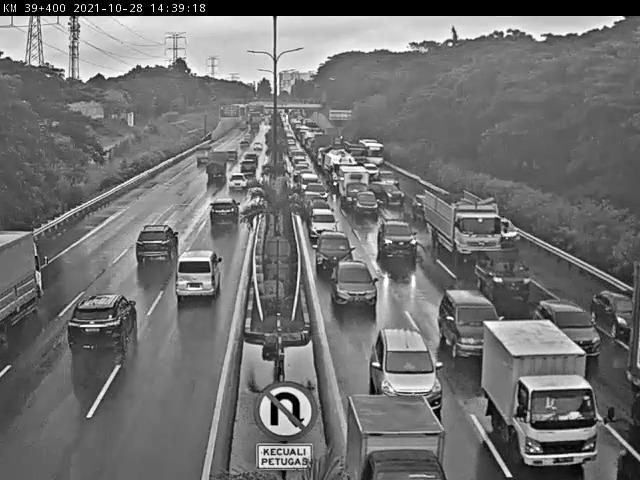car: (368, 324, 440, 407), (438, 288, 504, 359), (535, 297, 602, 356), (69, 294, 135, 348), (476, 247, 533, 300), (175, 251, 221, 300), (590, 290, 640, 335), (329, 256, 377, 301), (134, 224, 177, 264), (315, 230, 352, 272), (375, 217, 415, 255), (308, 207, 337, 241), (209, 197, 241, 225), (370, 181, 401, 202), (354, 191, 379, 214), (408, 191, 431, 214), (303, 190, 324, 210), (307, 198, 331, 214), (305, 183, 328, 199), (229, 172, 248, 189)
mid truck: (422, 188, 502, 261)
small truck: (484, 321, 600, 464), (340, 385, 436, 480), (340, 168, 370, 203)
